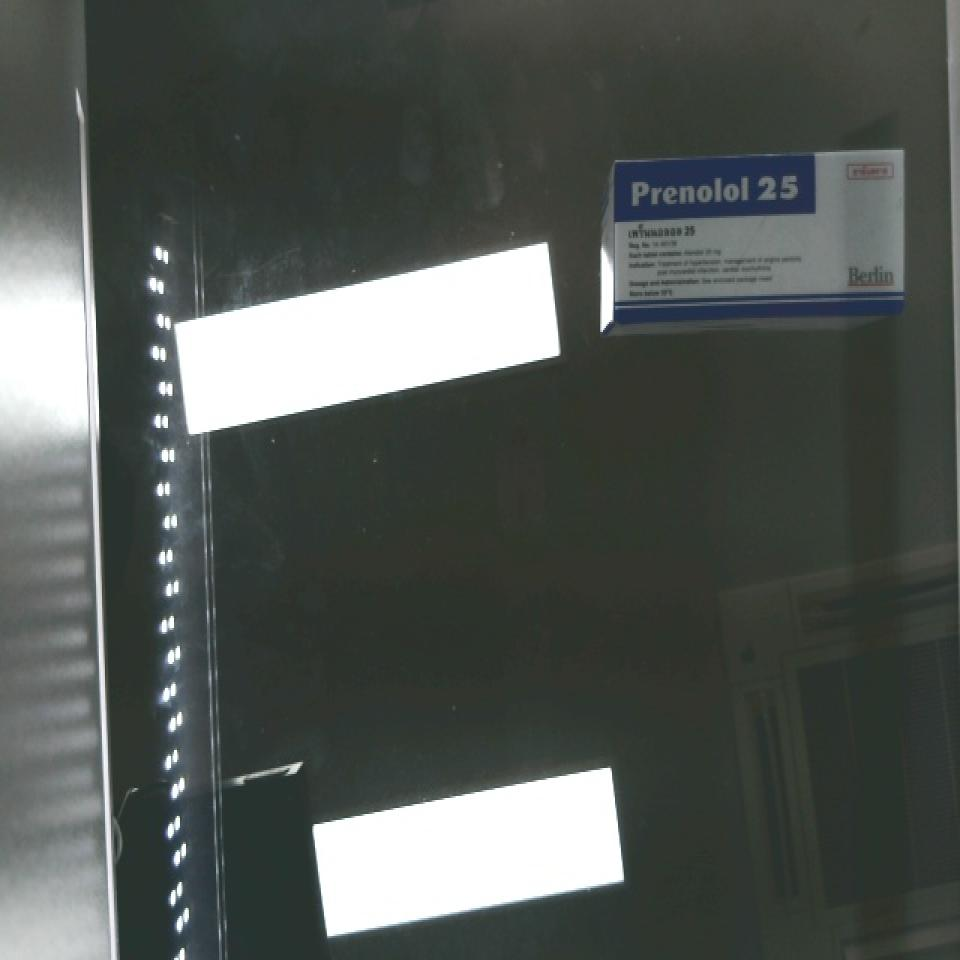medicine_box: (602, 144, 913, 321)
medicine_label_obb: (615, 155, 820, 219)
